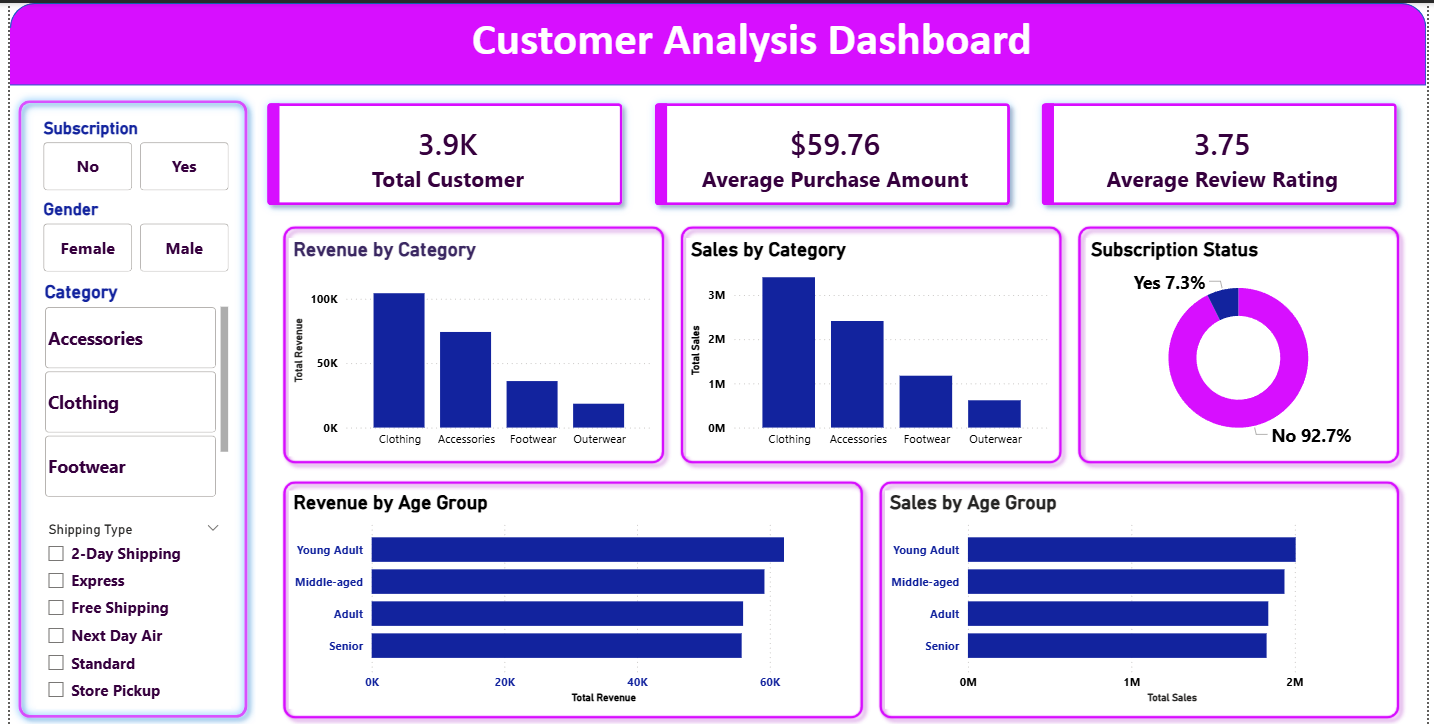

What the dashboard file says about the page in this screenshot:
{"tool":"powerbi","page":{"name":"Page 1","canvas":[1500,766],"ordinal":0},"visuals":[{"type":"cardVisual","fields":{"Data":["public customer.Number o Customer","public customer.Average Of Purchase Amount","public customer.Average Review Rating"]},"box":[243.9,81.8,1256.4,156.7],"z":0},{"type":"actionButton","box":[0,0,100,40],"z":1000},{"type":"shape","box":[0,0,1499.5,87.3],"z":2000},{"type":"textbox","box":[431.4,4,708,78.1],"z":3000},{"type":"shape","box":[0,94,260.3,671.8],"z":4000},{"type":"shape","box":[280.6,227.6,420.9,268.7],"z":5000},{"type":"shape","box":[701.4,227.6,420.9,268.7],"z":6000},{"type":"shape","box":[1122.3,227.6,357.3,268.7],"z":7000},{"type":"shape","box":[280.6,497.6,631.3,268.7],"z":8000},{"type":"shape","box":[911.8,497.6,567.8,268.7],"z":9000},{"type":"donutChart","title":" Subscription Status","fields":{"Category":["public customer.subscription_status"],"Y":["Sum(public customer.customer_id)"]},"box":[1139.6,248.7,322.5,230.9],"z":10000},{"type":"clusteredColumnChart","title":"Revenue by Category","fields":{"Category":["public customer.category"],"Y":["Sum(public customer.purchase_amount_usd)"]},"box":[295.1,248.7,390.8,230.9],"z":11000},{"type":"clusteredColumnChart","title":"Sales by Category","fields":{"Category":["public customer.category"],"Y":["Sum(public customer.customer_id)"]},"box":[716,248.7,390.8,230.9],"z":12000},{"type":"clusteredBarChart","title":"Revenue by Age Group","fields":{"Category":["public customer.age_group"],"Y":["Sum(public customer.purchase_amount_usd)"]},"box":[295.1,516.5,595.7,230.9],"z":13000},{"type":"clusteredBarChart","title":"Sales by Age Group","fields":{"Category":["public customer.age_group"],"Y":["Sum(public customer.customer_id)"]},"box":[926.4,516.5,535.6,230.9],"z":14000},{"type":"advancedSlicerVisual","fields":{"Values":["public customer.subscription_status"]},"box":[30.4,121.8,206.5,82.1],"z":14001},{"type":"slicer","fields":{"Values":["public customer.shipping_type"]},"box":[27.3,543.8,206.3,203.6],"z":14003},{"type":"advancedSlicerVisual","fields":{"Values":["public customer.category"]},"box":[31.9,295.7,204.4,234.8],"z":14004},{"type":"advancedSlicerVisual","fields":{"Values":["public customer.gender"]},"box":[30.4,207.8,206.5,82.1],"z":14005}]}

Visuals, with their boxes in screenshot pixels (x1, y1, x2, y2), scaled from the page's 1500x766 canvas onto the 1434x724 screenshot:
cardVisual - public customer.Number o Customer x public customer.Average Of Purchase Amount: crop(233, 77, 1433, 225)
actionButton: crop(0, 0, 96, 38)
shape: crop(0, 0, 1433, 83)
textbox: crop(412, 4, 1089, 78)
shape: crop(0, 89, 249, 723)
shape: crop(268, 215, 671, 469)
shape: crop(671, 215, 1073, 469)
shape: crop(1073, 215, 1414, 469)
shape: crop(268, 470, 872, 723)
shape: crop(872, 470, 1414, 723)
" Subscription Status" donutChart: crop(1089, 235, 1398, 453)
"Revenue by Category" clusteredColumnChart: crop(282, 235, 656, 453)
"Sales by Category" clusteredColumnChart: crop(684, 235, 1058, 453)
"Revenue by Age Group" clusteredBarChart: crop(282, 488, 852, 706)
"Sales by Age Group" clusteredBarChart: crop(886, 488, 1398, 706)
advancedSlicerVisual - public customer.subscription_status: crop(29, 115, 226, 193)
slicer - public customer.shipping_type: crop(26, 514, 223, 706)
advancedSlicerVisual - public customer.category: crop(30, 279, 226, 501)
advancedSlicerVisual - public customer.gender: crop(29, 196, 226, 274)
